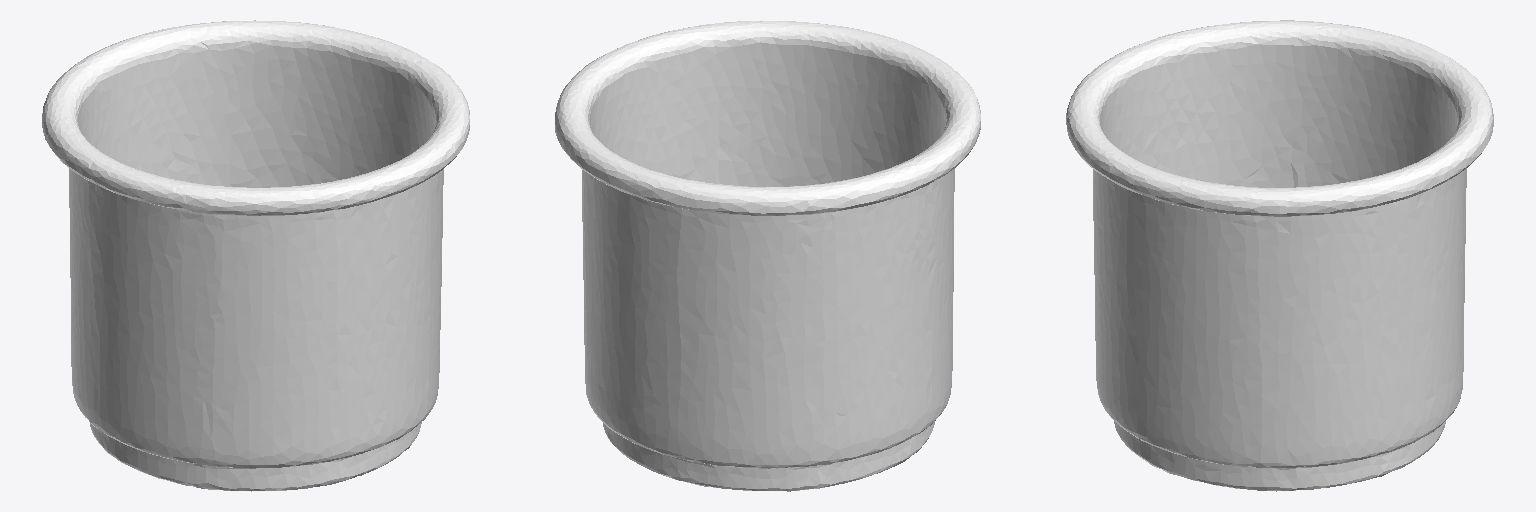
URDF robot description (065-a_cups):
<robot name="065-a_cups">
	<link name="_name">
		<visual>
			<origin xyz="0.3054243478832419 0.4266839741228885 -0.2845752748202133" rpy="0 0 0" />
			<geometry>
				<mesh filename="065-a_cups/google_16k/textured.obj" scale="10 10 10" />
			</geometry>
			<material name="texture">
				<color rgba="1.0 1.0 1.0 1.0" />
			</material>
		</visual>
		<collision>
			<geometry>
				<mesh filename="065-a_cups/google_16k/textured_vhacd.obj" scale="10 10 10" />
			</geometry>
		<origin xyz="0.3054243478832419 0.4266839741228885 -0.2845752748202133" rpy="0 0 0" /></collision>
		<inertial>
			<mass value="1.0" />
			<inertia ixx="1.0" ixy="0.0" ixz="0.0" iyy="1.0" iyz="0.0" izz="1.0" />
		</inertial>
	</link>
</robot>

--- Render facts (derived) ---
The picture shows the robot from 3 angles, left to right: view 1: azimuth 30°, elevation 25°; view 2: azimuth 150°, elevation 25°; view 3: azimuth 270°, elevation 25°; orthographic projection.
Robot: 065-a_cups — 1 links, 0 joints (none); root link _name; default pose: every joint at zero.
Links seen in each view (by area): view 1: _name; view 2: _name; view 3: _name.
Link boxes in pixels (x1,y1,x2,y2): _name: [42, 20, 469, 491]; _name: [555, 20, 980, 491]; _name: [1066, 20, 1493, 491].
Bounding box of the posed robot: 0.915 × 0.9162 × 0.7506 m (x, y, z).
Meshes: 1 distinct files referenced, 1 mesh visuals loaded (1 OBJ).